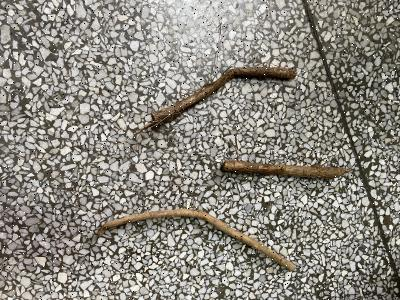Root: (98, 209, 294, 271), (133, 67, 297, 135), (224, 161, 349, 178)
